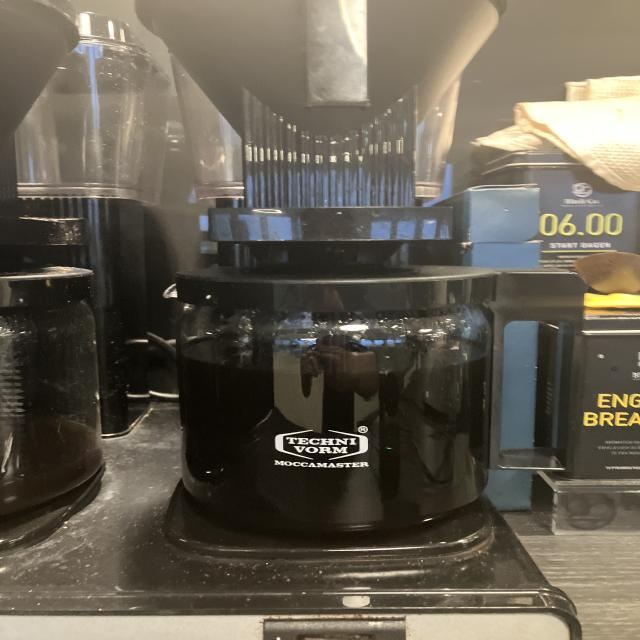coffee: (158, 268, 511, 534), (0, 254, 127, 521)
